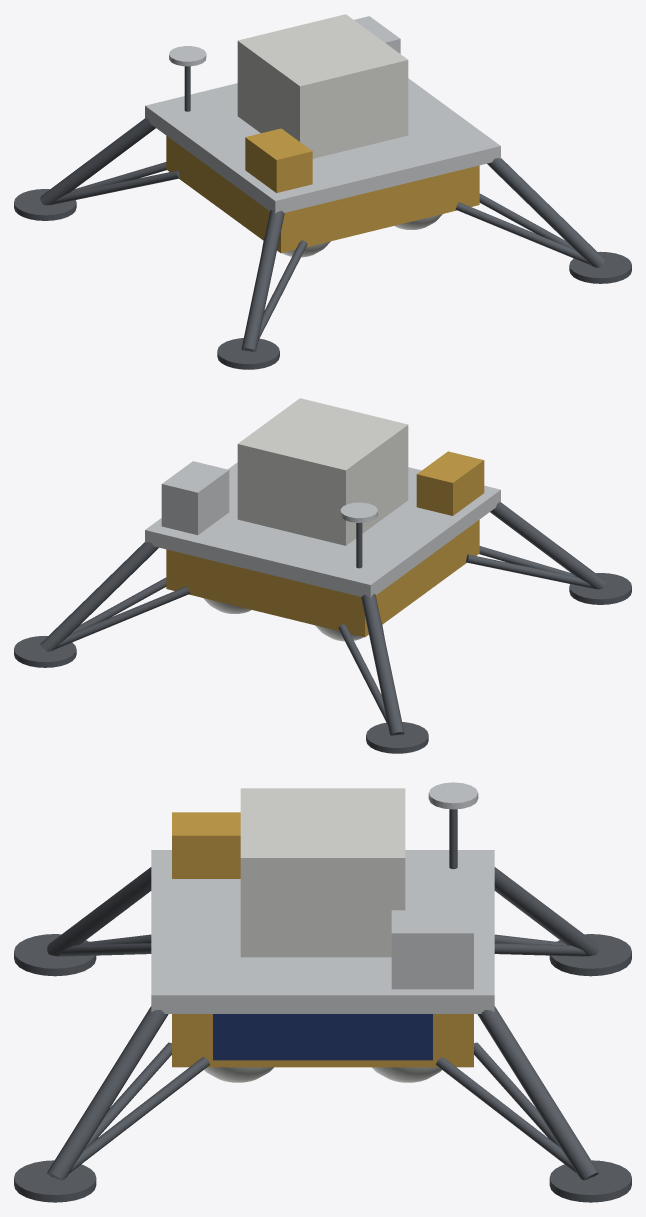
File: griffin-lander.glb
3 views of the same model, one above another, from view 1: azimuth 30°, elevation 25°; view 2: azimuth 150°, elevation 25°; view 3: azimuth 270°, elevation 25° (orthographic). The views are drawn at different scales.
Parts seen in each view (by area): view 1: payload-payload-white, lander-body-deck-grey, landing-legs-leg-grey, lander-body-foil-gold, payload-foil-gold, payload-deck-grey, lander-body-tank-white; view 2: payload-payload-white, lander-body-deck-grey, landing-legs-leg-grey, lander-body-foil-gold, payload-deck-grey, payload-foil-gold, lander-body-tank-white; view 3: lander-body-deck-grey, landing-legs-leg-grey, payload-payload-white, lander-body-cell-blue, payload-deck-grey, lander-body-foil-gold, payload-foil-gold, lander-body-tank-white.
Part boxes in pixels (left/top/right/bottom): payload-payload-white: left=237, top=14, right=408, bottom=158; lander-body-deck-grey: left=145, top=78, right=500, bottom=213; landing-legs-leg-grey: left=14, top=118, right=631, bottom=369; lander-body-foil-gold: left=166, top=136, right=479, bottom=253; payload-foil-gold: left=245, top=128, right=312, bottom=192; payload-deck-grey: left=169, top=16, right=400, bottom=66; lander-body-tank-white: left=282, top=214, right=442, bottom=257; payload-payload-white: left=237, top=398, right=408, bottom=545; lander-body-deck-grey: left=145, top=462, right=500, bottom=597; landing-legs-leg-grey: left=14, top=502, right=631, bottom=753; lander-body-foil-gold: left=166, top=520, right=479, bottom=637; payload-deck-grey: left=161, top=461, right=377, bottom=535; payload-foil-gold: left=416, top=451, right=484, bottom=515; lander-body-tank-white: left=203, top=598, right=363, bottom=641; lander-body-deck-grey: left=151, top=850, right=494, bottom=1013; landing-legs-leg-grey: left=14, top=867, right=631, bottom=1202; payload-payload-white: left=240, top=788, right=405, bottom=957; lander-body-cell-blue: left=213, top=1014, right=432, bottom=1060; payload-deck-grey: left=391, top=782, right=478, bottom=989; lander-body-foil-gold: left=172, top=1014, right=473, bottom=1067; payload-foil-gold: left=172, top=812, right=240, bottom=878; lander-body-tank-white: left=204, top=1067, right=441, bottom=1082.
Size of the model in its own units: 4.5 by 2 by 4.5.
